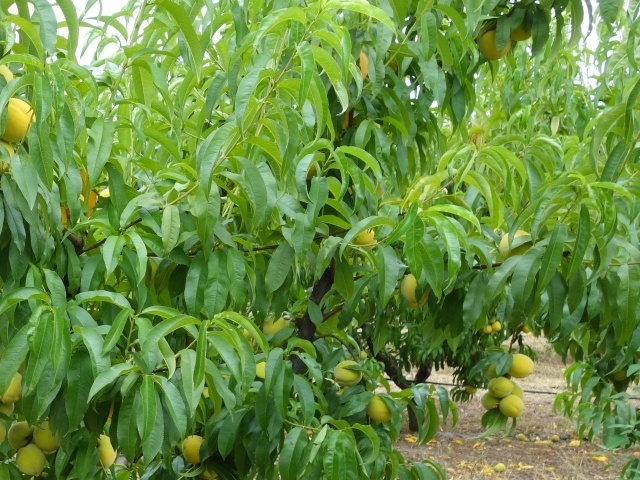peach: (1, 96, 41, 150), (398, 272, 436, 313), (476, 22, 515, 61), (494, 224, 534, 258), (30, 416, 65, 452), (179, 430, 210, 467), (92, 430, 120, 469), (6, 416, 35, 453), (333, 356, 366, 388), (505, 350, 536, 383), (365, 392, 397, 423), (1, 371, 27, 406), (497, 392, 527, 422), (260, 316, 292, 344), (357, 224, 382, 256), (485, 373, 514, 400), (478, 389, 502, 414)
